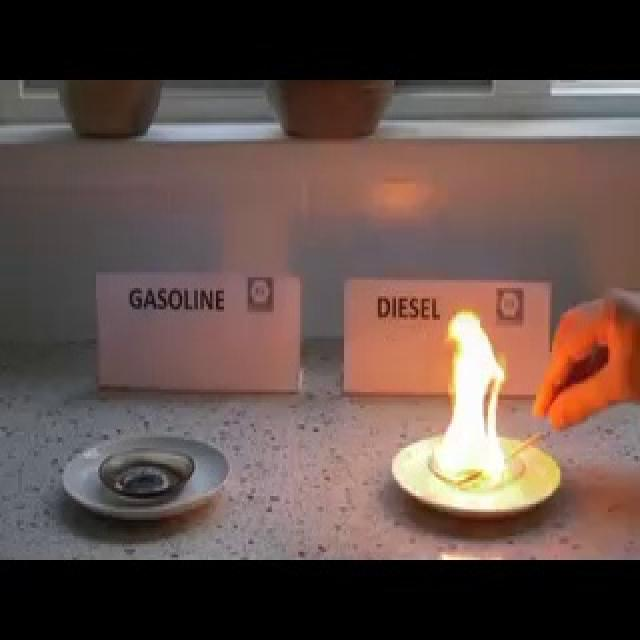fire: (433, 306, 508, 488)
